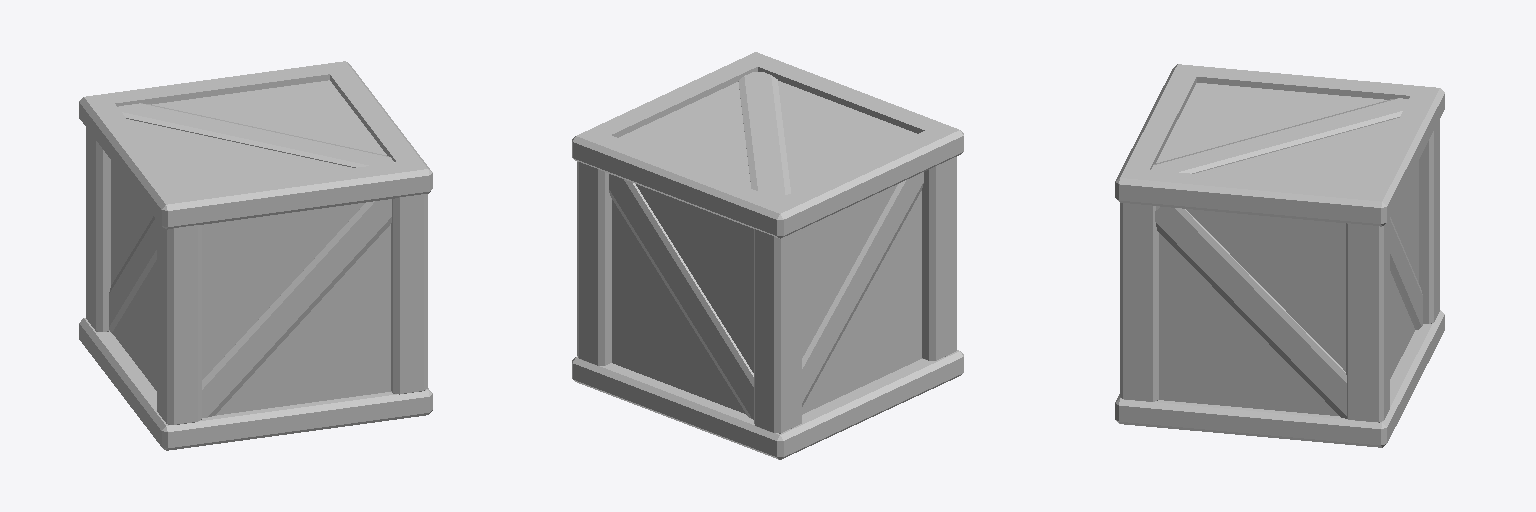
The model's file is crate.obj.
The picture shows the model from 3 angles: view 1: azimuth 30°, elevation 25°; view 2: azimuth 150°, elevation 25°; view 3: azimuth 270°, elevation 25°; orthographic projection.
Visible parts, largest first — view 1: crate10 Hall; view 2: crate10 Hall; view 3: crate10 Hall.
Boxes of the visible parts, <box> form: crate10 Hall: <box>79,61,432,450</box>; crate10 Hall: <box>572,52,963,459</box>; crate10 Hall: <box>1115,64,1444,447</box>.
Bounding box in the file's own units: 7.72 × 6.26 × 7.6.